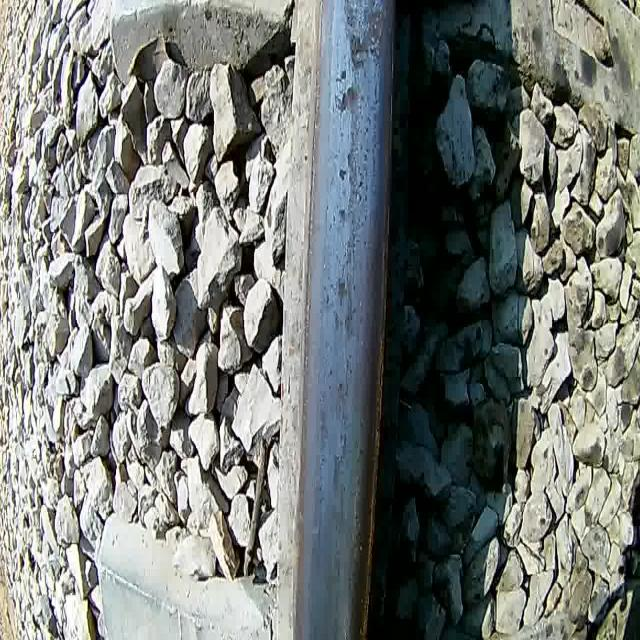Cracks: (339, 273, 354, 407), (344, 227, 358, 289)
Spallings: (339, 1, 390, 67), (334, 67, 361, 111)
Squats: (306, 496, 362, 640), (330, 0, 390, 119), (313, 371, 355, 499), (333, 123, 371, 259), (324, 258, 364, 349)
